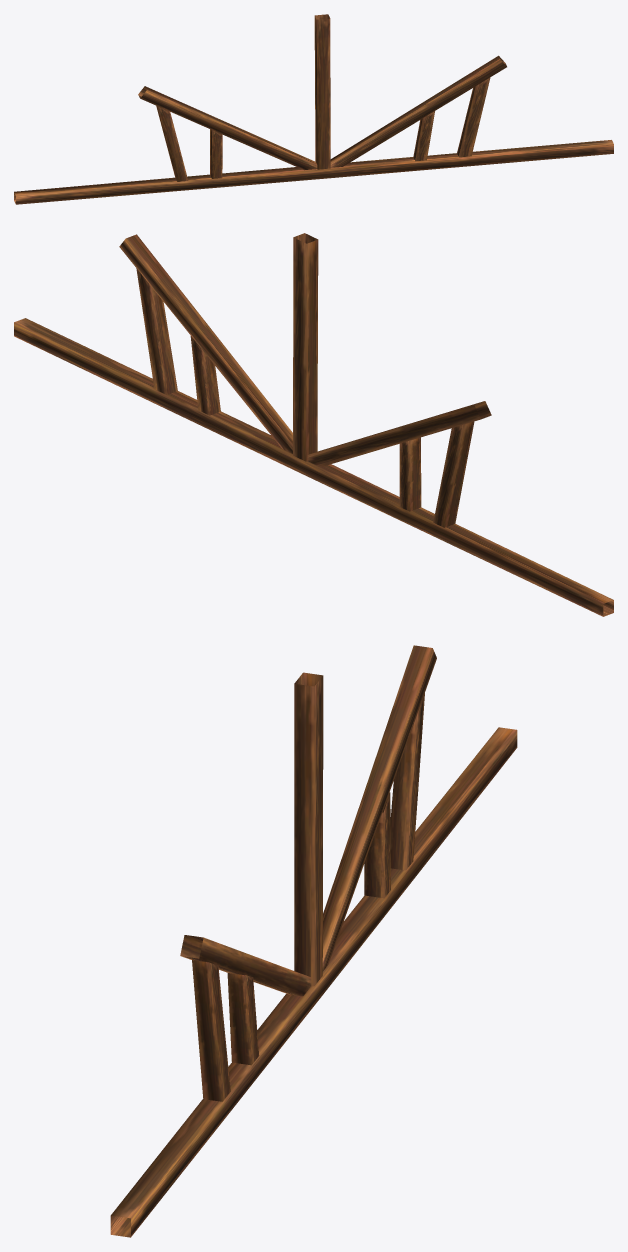
The model's file is SWORDLIGHT20_JAILCEILBRACKET13.fbx.
3 renders of one model, top to bottom at view 1: azimuth 30°, elevation 25°; view 2: azimuth 150°, elevation 25°; view 3: azimuth 270°, elevation 25°, orthographic. The views are drawn at different scales.
Parts seen in each view (by area): view 1: SWORDLIGHT20_JAILCEILBRACKET13; view 2: SWORDLIGHT20_JAILCEILBRACKET13; view 3: SWORDLIGHT20_JAILCEILBRACKET13.
Part boxes in pixels (<box>): SWORDLIGHT20_JAILCEILBRACKET13: <box>14,14,613,204</box>; SWORDLIGHT20_JAILCEILBRACKET13: <box>14,233,613,616</box>; SWORDLIGHT20_JAILCEILBRACKET13: <box>110,645,517,1237</box>.
Bounding box in the file's own units: 164149 × 49666 × 57353.
1 material, 1 textured.
